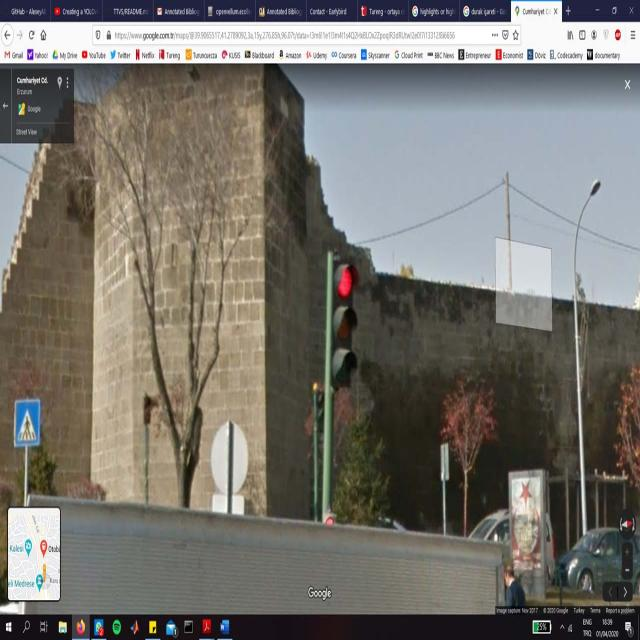kirmizi: (331, 259, 355, 385)
